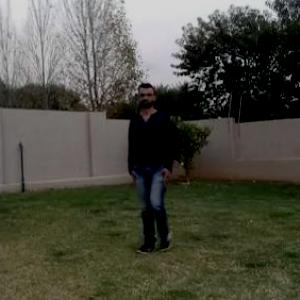follow: (133, 87, 172, 242)
